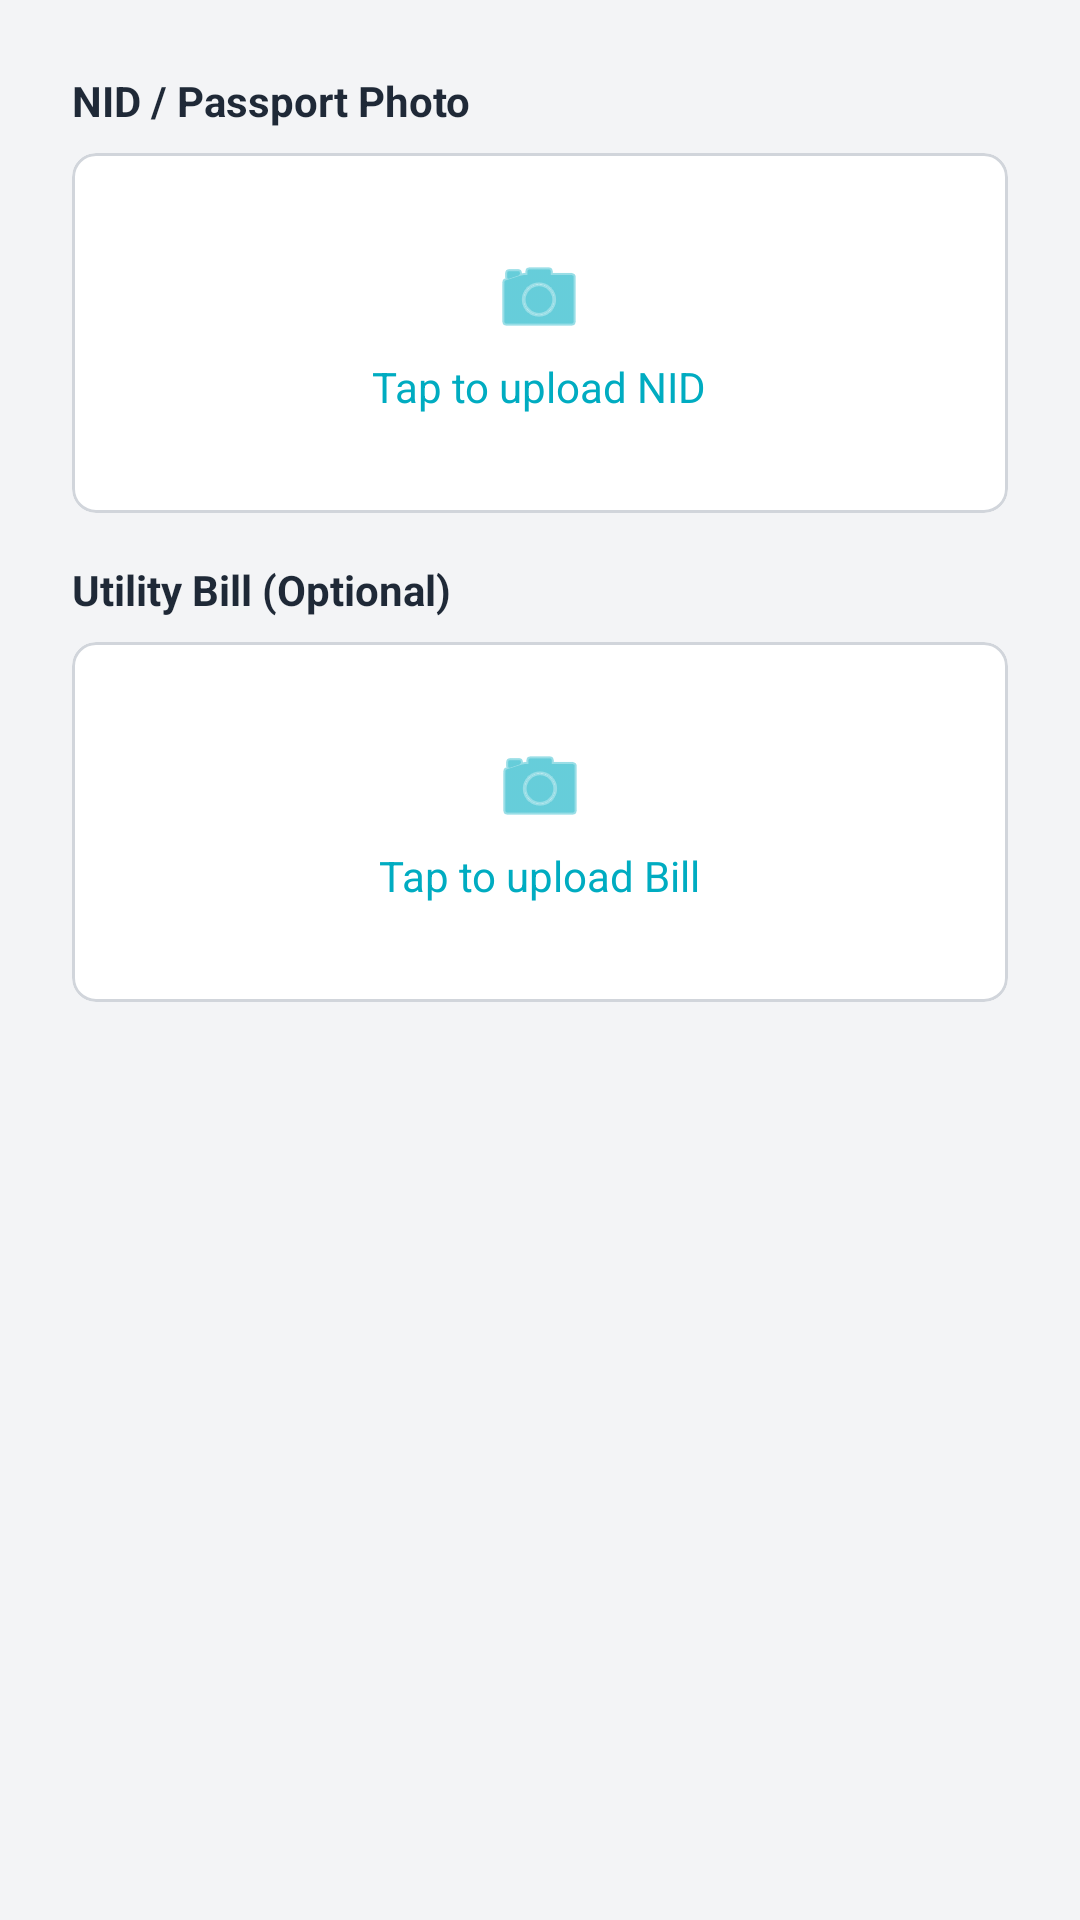

Icons on this 1080 × 1920 Android screen, each with its box as (x1, y1, x2, y2):
camera: (502, 267, 576, 326), (503, 756, 577, 815)
